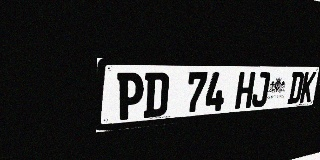4: (204, 72, 227, 112)
7: (184, 72, 208, 114)
D: (143, 72, 170, 118), (287, 72, 305, 104)
H: (235, 72, 256, 109)
J: (251, 72, 271, 108)
K: (299, 72, 316, 103)
P: (116, 72, 144, 121)
